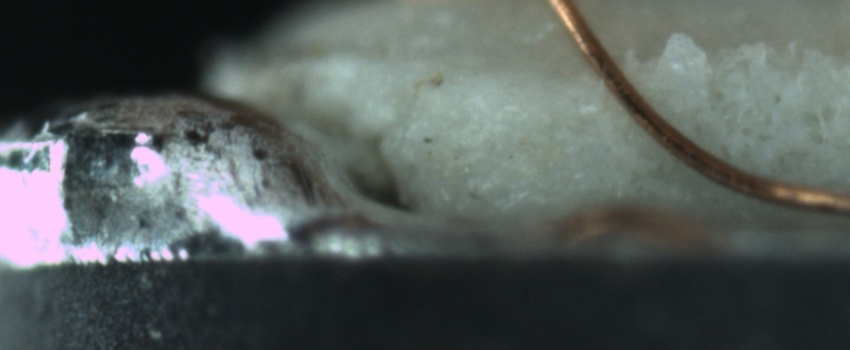DL: (409, 43, 600, 103)
